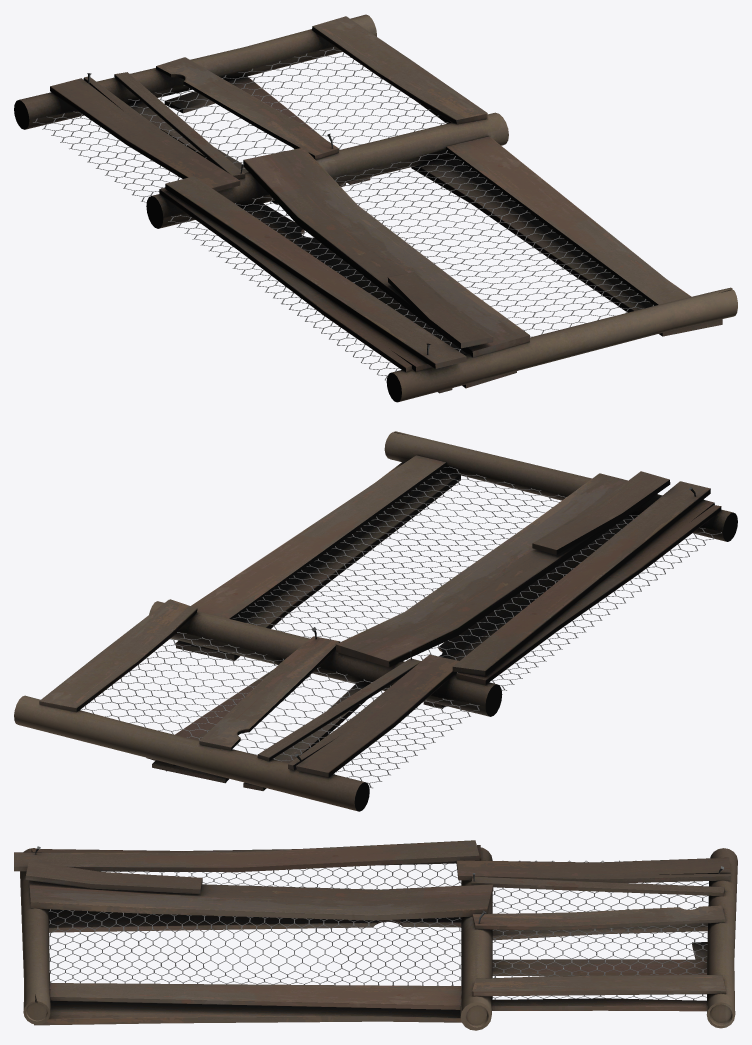
Rendered from props_coalmines_wood_fence_short_256.glb.
3 views of the same model, one above another, from view 1: azimuth 30°, elevation 25°; view 2: azimuth 150°, elevation 25°; view 3: azimuth 270°, elevation 25° (orthographic). The views are drawn at different scales.
Parts seen in each view (by area): view 1: models/props_coalmines/wood_fence_short_256; view 2: models/props_coalmines/wood_fence_short_256; view 3: models/props_coalmines/wood_fence_short_256.
Part boxes in pixels (<box>): models/props_coalmines/wood_fence_short_256: <box>14,14,737,402</box>; models/props_coalmines/wood_fence_short_256: <box>14,431,737,811</box>; models/props_coalmines/wood_fence_short_256: <box>14,840,737,1030</box>.
Bounding box in the file's own units: 134 × 24.47 × 261.
Materials: 2 (2 with a texture image).
